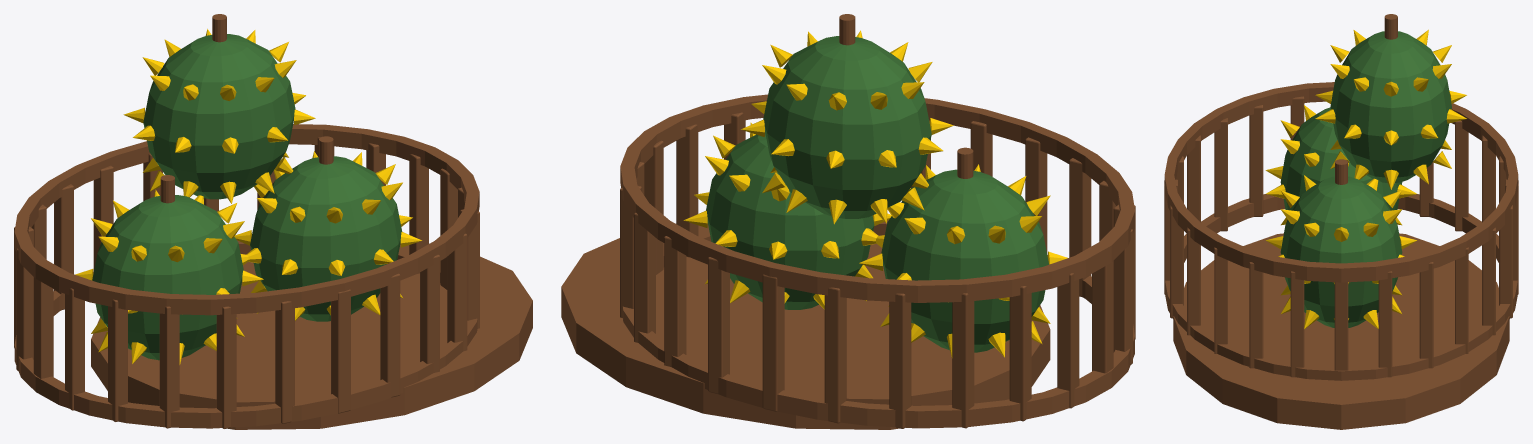
Rendered from source-edit.glb.
3 renders of one model, left to right at view 1: azimuth 30°, elevation 25°; view 2: azimuth 150°, elevation 25°; view 3: azimuth 270°, elevation 25°, orthographic. The views are drawn at different scales.
Visible parts, largest first — view 1: Basket_Base, Durian_2, Wicker_Rim.001, Durian_1, Durian_0, Wicker_Rim, Wicker_Slat.019, Wicker_Slat.016, Wicker_Slat.018, Wicker_Slat.017, Wicker_Slat.015, Wicker_Slat.014 (+11 smaller); view 2: Basket_Base, Durian_2, Wicker_Rim.001, Durian_0, Durian_1, Wicker_Rim, Wicker_Slat.006, Wicker_Slat.007, Wicker_Slat.008, Wicker_Slat.009, Wicker_Slat.010, Wicker_Slat.005 (+13 smaller); view 3: Basket_Base, Durian_2, Wicker_Rim.001, Durian_1, Wicker_Rim, Durian_0, Wicker_Slat.014, Wicker_Slat.001, Wicker_Slat.023, Wicker_Slat.002, Wicker_Slat.022, Wicker_Slat.015 (+15 smaller).
Boxes of the visible parts, x1,y1,x2,y2 form: Basket_Base: [91, 243, 532, 429]; Durian_2: [143, 34, 295, 199]; Wicker_Rim.001: [14, 124, 479, 315]; Durian_1: [250, 156, 402, 321]; Durian_0: [92, 195, 243, 360]; Wicker_Rim: [14, 240, 477, 428]; Wicker_Slat.019: [380, 273, 400, 397]; Wicker_Slat.016: [216, 306, 236, 428]; Wicker_Slat.018: [331, 289, 350, 413]; Wicker_Slat.017: [275, 301, 294, 423]; Wicker_Slat.015: [159, 306, 179, 428]; Wicker_Slat.014: [108, 299, 127, 421]; Basket_Base: [561, 223, 1050, 429]; Durian_2: [763, 36, 931, 218]; Wicker_Rim.001: [620, 94, 1134, 302]; Durian_0: [881, 169, 1048, 352]; Durian_1: [706, 132, 874, 309]; Wicker_Rim: [622, 220, 1134, 428]; Wicker_Slat.006: [762, 274, 784, 411]; Wicker_Slat.007: [824, 287, 846, 423]; Wicker_Slat.008: [889, 293, 911, 428]; Wicker_Slat.009: [952, 293, 974, 428]; Wicker_Slat.010: [1009, 286, 1031, 421]; Wicker_Slat.005: [708, 257, 729, 393]; Basket_Base: [1173, 233, 1509, 429]; Durian_2: [1330, 31, 1451, 182]; Wicker_Rim.001: [1164, 82, 1518, 282]; Durian_1: [1280, 176, 1402, 327]; Wicker_Rim: [1165, 194, 1517, 380]; Durian_0: [1280, 107, 1402, 210]; Wicker_Slat.014: [1249, 105, 1263, 216]; Wicker_Slat.001: [1378, 271, 1392, 377]; Wicker_Slat.023: [1290, 271, 1304, 377]; Wicker_Slat.002: [1419, 262, 1433, 368]; Wicker_Slat.022: [1249, 262, 1263, 368]; Wicker_Slat.015: [1214, 118, 1227, 231].
Bounding box in the file's own units: 0.903 × 0.59 × 0.641.
